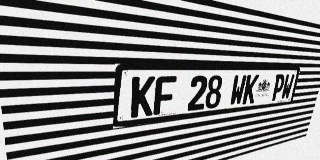2: (187, 75, 208, 111)
8: (204, 75, 224, 109)
F: (153, 76, 177, 115)
K: (130, 76, 155, 118), (242, 75, 259, 104)
P: (270, 74, 286, 101)
W: (229, 75, 247, 106), (280, 74, 295, 100)
